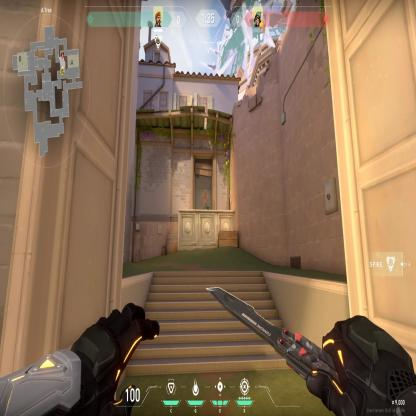enemy: (202, 187, 209, 211)
